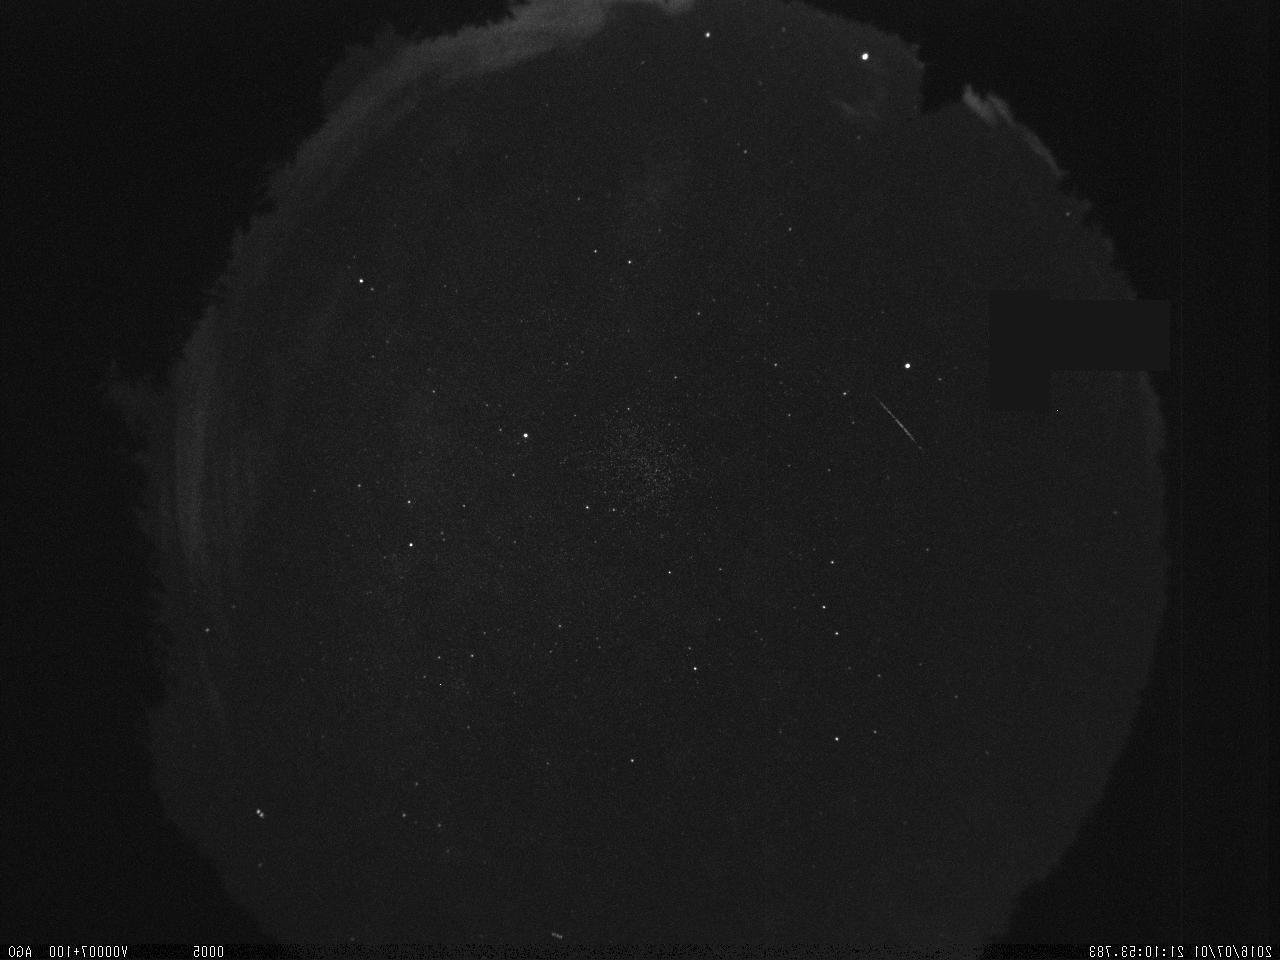meteor: (877, 377, 923, 465)
